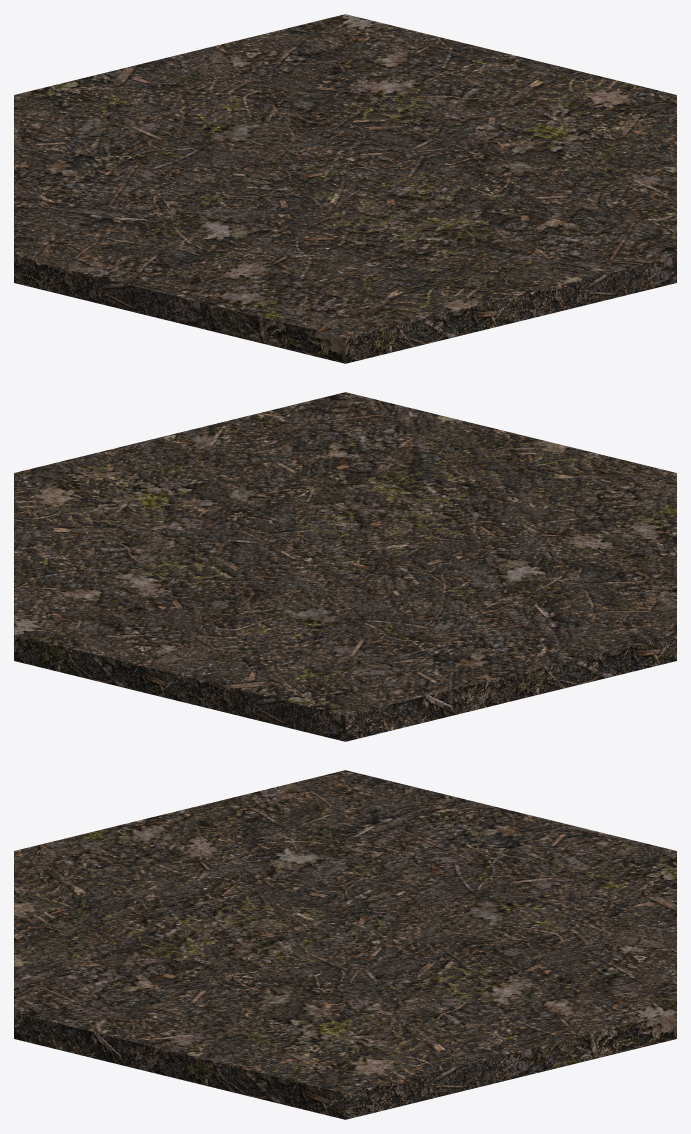
Rendered from rooted-soil-tile-v01.glb.
3 renders of one model, top to bottom at view 1: azimuth 30°, elevation 25°; view 2: azimuth 150°, elevation 25°; view 3: azimuth 270°, elevation 25°, orthographic.
Visible parts, largest first — view 1: rooted-soil-tile-hex; view 2: rooted-soil-tile-hex; view 3: rooted-soil-tile-hex.
Boxes of the visible parts, x1,y1,x2,y2 form: rooted-soil-tile-hex: (14, 14, 676, 363); rooted-soil-tile-hex: (14, 392, 676, 741); rooted-soil-tile-hex: (14, 770, 676, 1119).
Size of the model in its own units: 1.96 by 0.075 by 1.7.
Materials: 1 (1 with a texture image).
